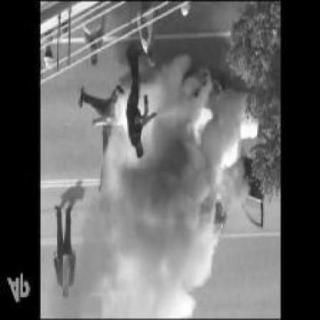Fire: (183, 103, 219, 147)
Smoke: (56, 70, 256, 320)
